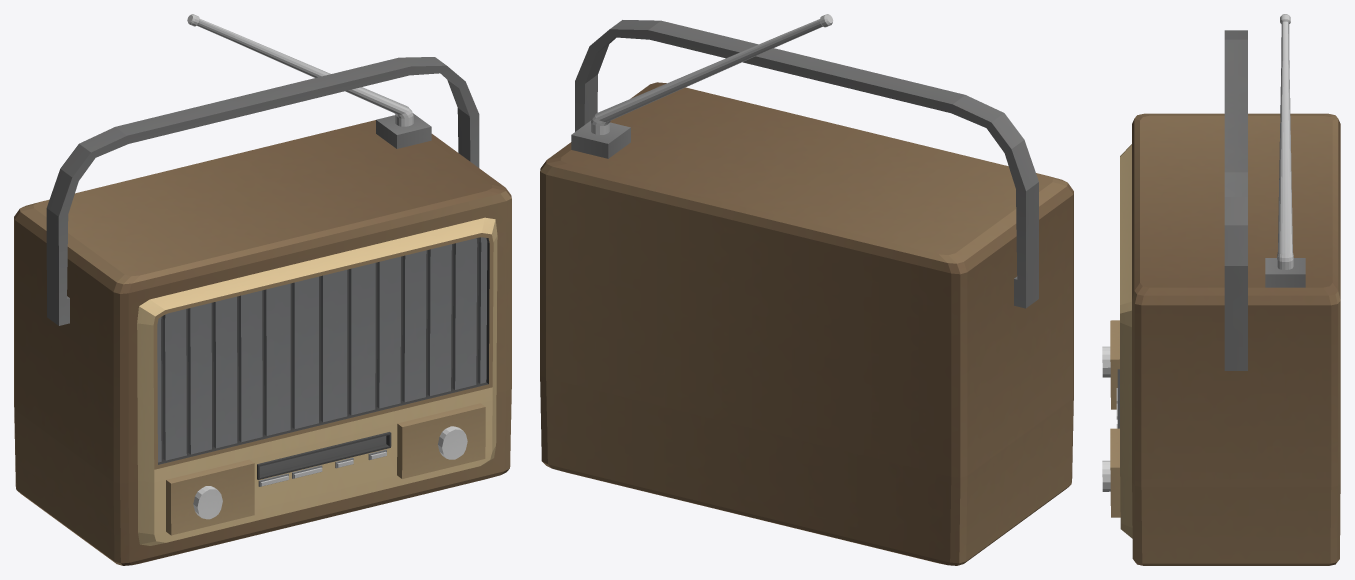
The model's file is radio.glb.
3 renders of one model, left to right at view 1: azimuth 30°, elevation 25°; view 2: azimuth 150°, elevation 25°; view 3: azimuth 270°, elevation 25°, orthographic. The views are drawn at different scales.
Visible parts, largest first — view 1: radio; view 2: radio; view 3: radio.
Part boxes in pixels (<box>): radio: <box>14,14,511,565</box>; radio: <box>540,14,1073,565</box>; radio: <box>1102,14,1340,565</box>.
Size of the model in its own units: 0.3477 by 0.3649 by 0.1778.
Materials: 1 (1 with a texture image).
